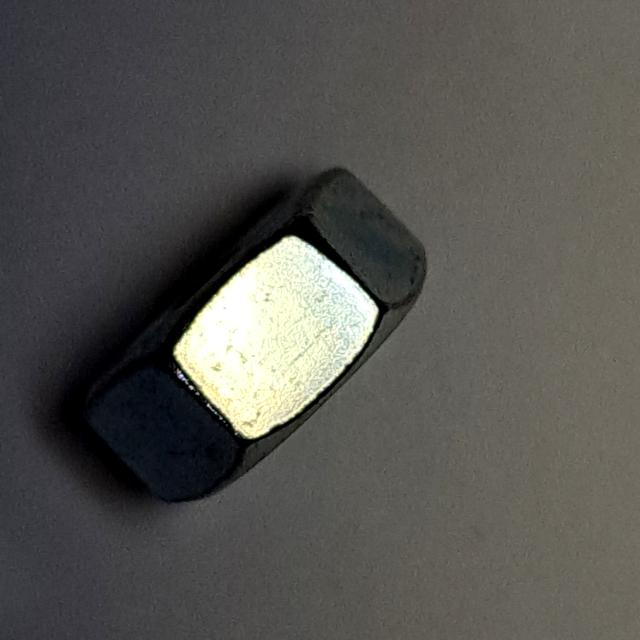Side_Excellent: (60, 147, 440, 520)
